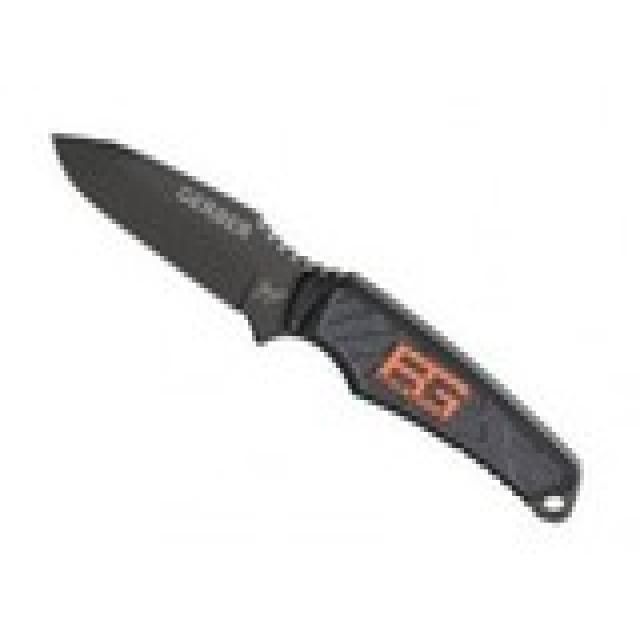Knife: (31, 88, 587, 529)
